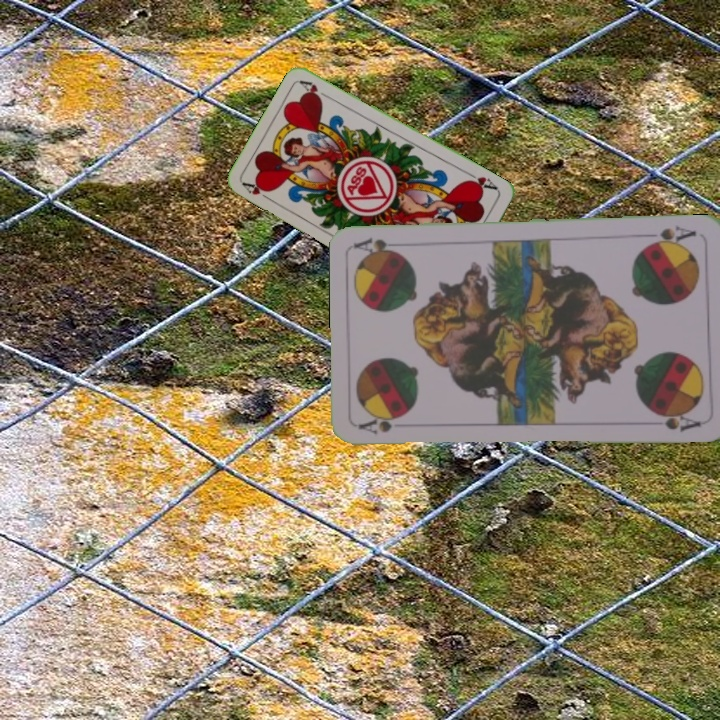HA: (239, 177, 276, 205), (462, 168, 500, 193)
SA: (644, 222, 699, 249), (355, 409, 410, 436)
